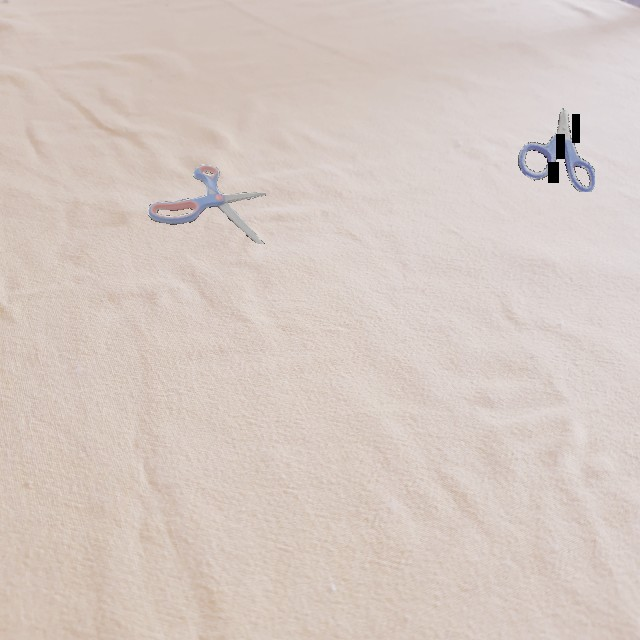scissors: (148, 164, 266, 244), (518, 108, 595, 192)
